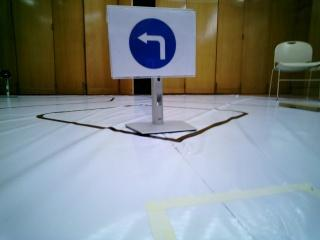left: (108, 13, 199, 75)
